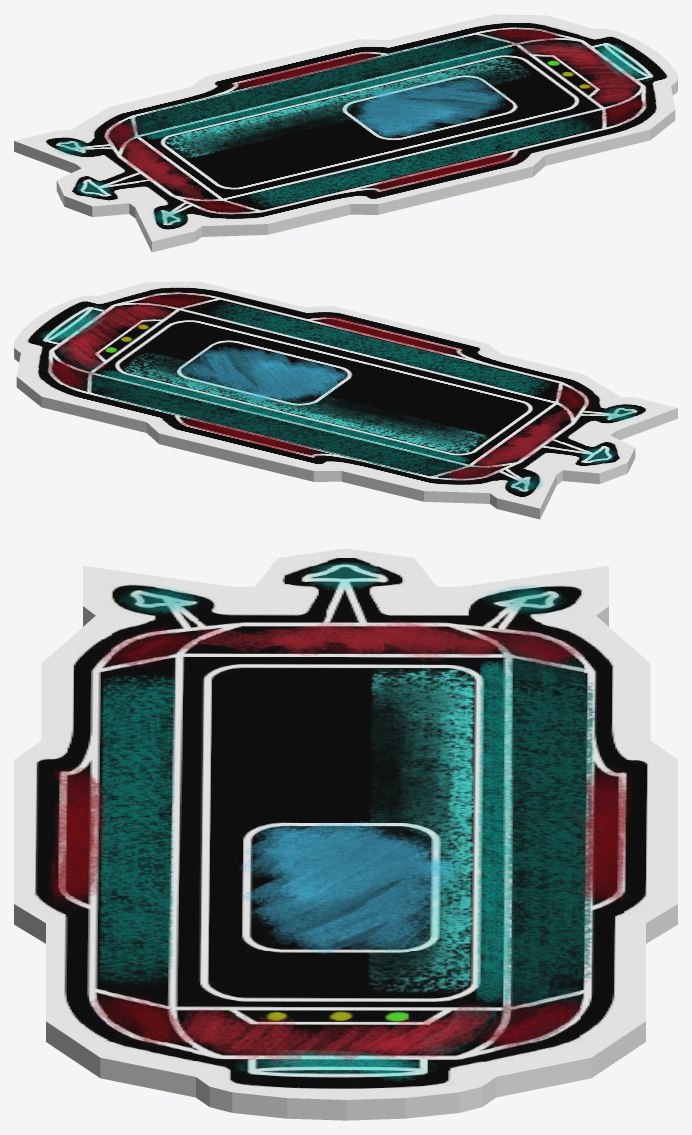
Rendered from capsule_ble_v03.obj.
The picture shows the model from 3 angles, top to bottom: view 1: azimuth 30°, elevation 25°; view 2: azimuth 150°, elevation 25°; view 3: azimuth 270°, elevation 25°; orthographic projection. The views are drawn at different scales.
Visible parts, largest first — view 1: MeshBody2; view 2: MeshBody2; view 3: MeshBody2.
Boxes of the visible parts, box(x1,y1,x2,y2) form: MeshBody2: box(14, 14, 677, 252); MeshBody2: box(14, 281, 677, 519); MeshBody2: box(14, 548, 677, 1120).
Bounding box in the file's own units: 2.87 × 0.05 × 1.46.
Materials: 2 (2 with a texture image).
